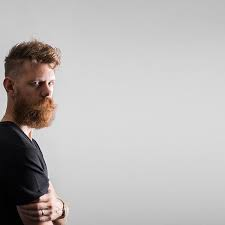b.y: (28, 98, 55, 128)
